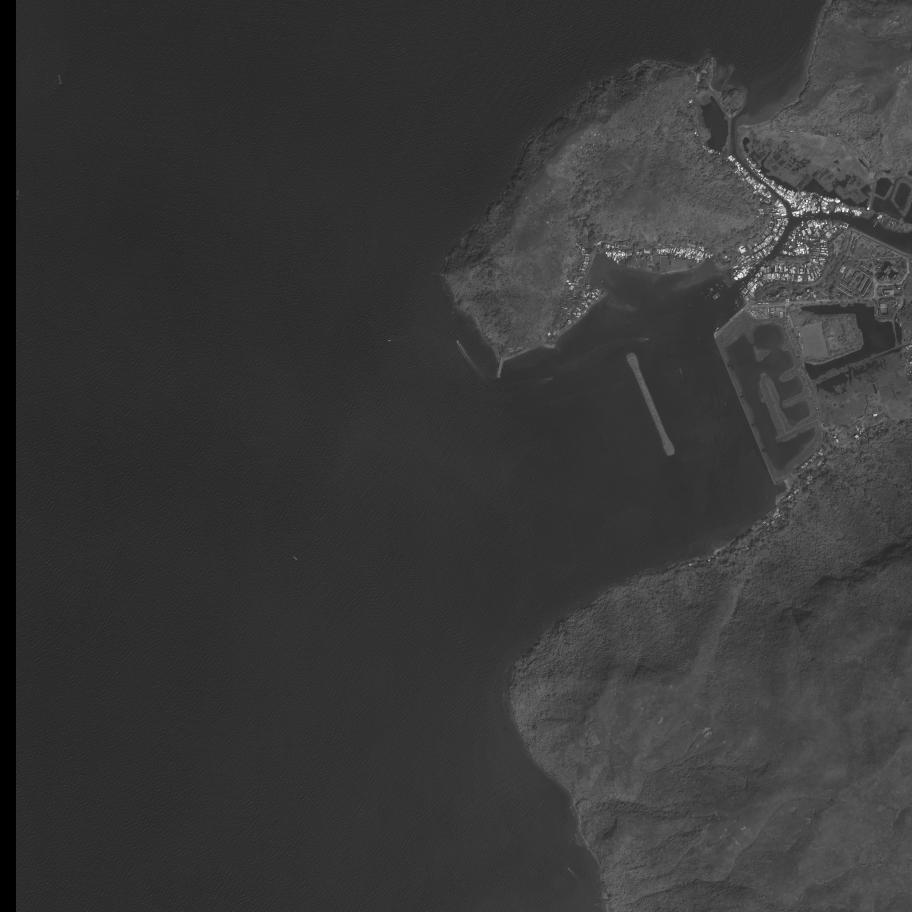ship: (713, 294, 721, 301), (679, 368, 684, 379), (57, 75, 62, 85), (566, 865, 573, 872), (712, 292, 719, 299), (546, 376, 554, 382), (643, 337, 650, 342), (16, 190, 19, 200), (293, 556, 298, 561), (715, 327, 719, 331), (456, 340, 459, 343)
